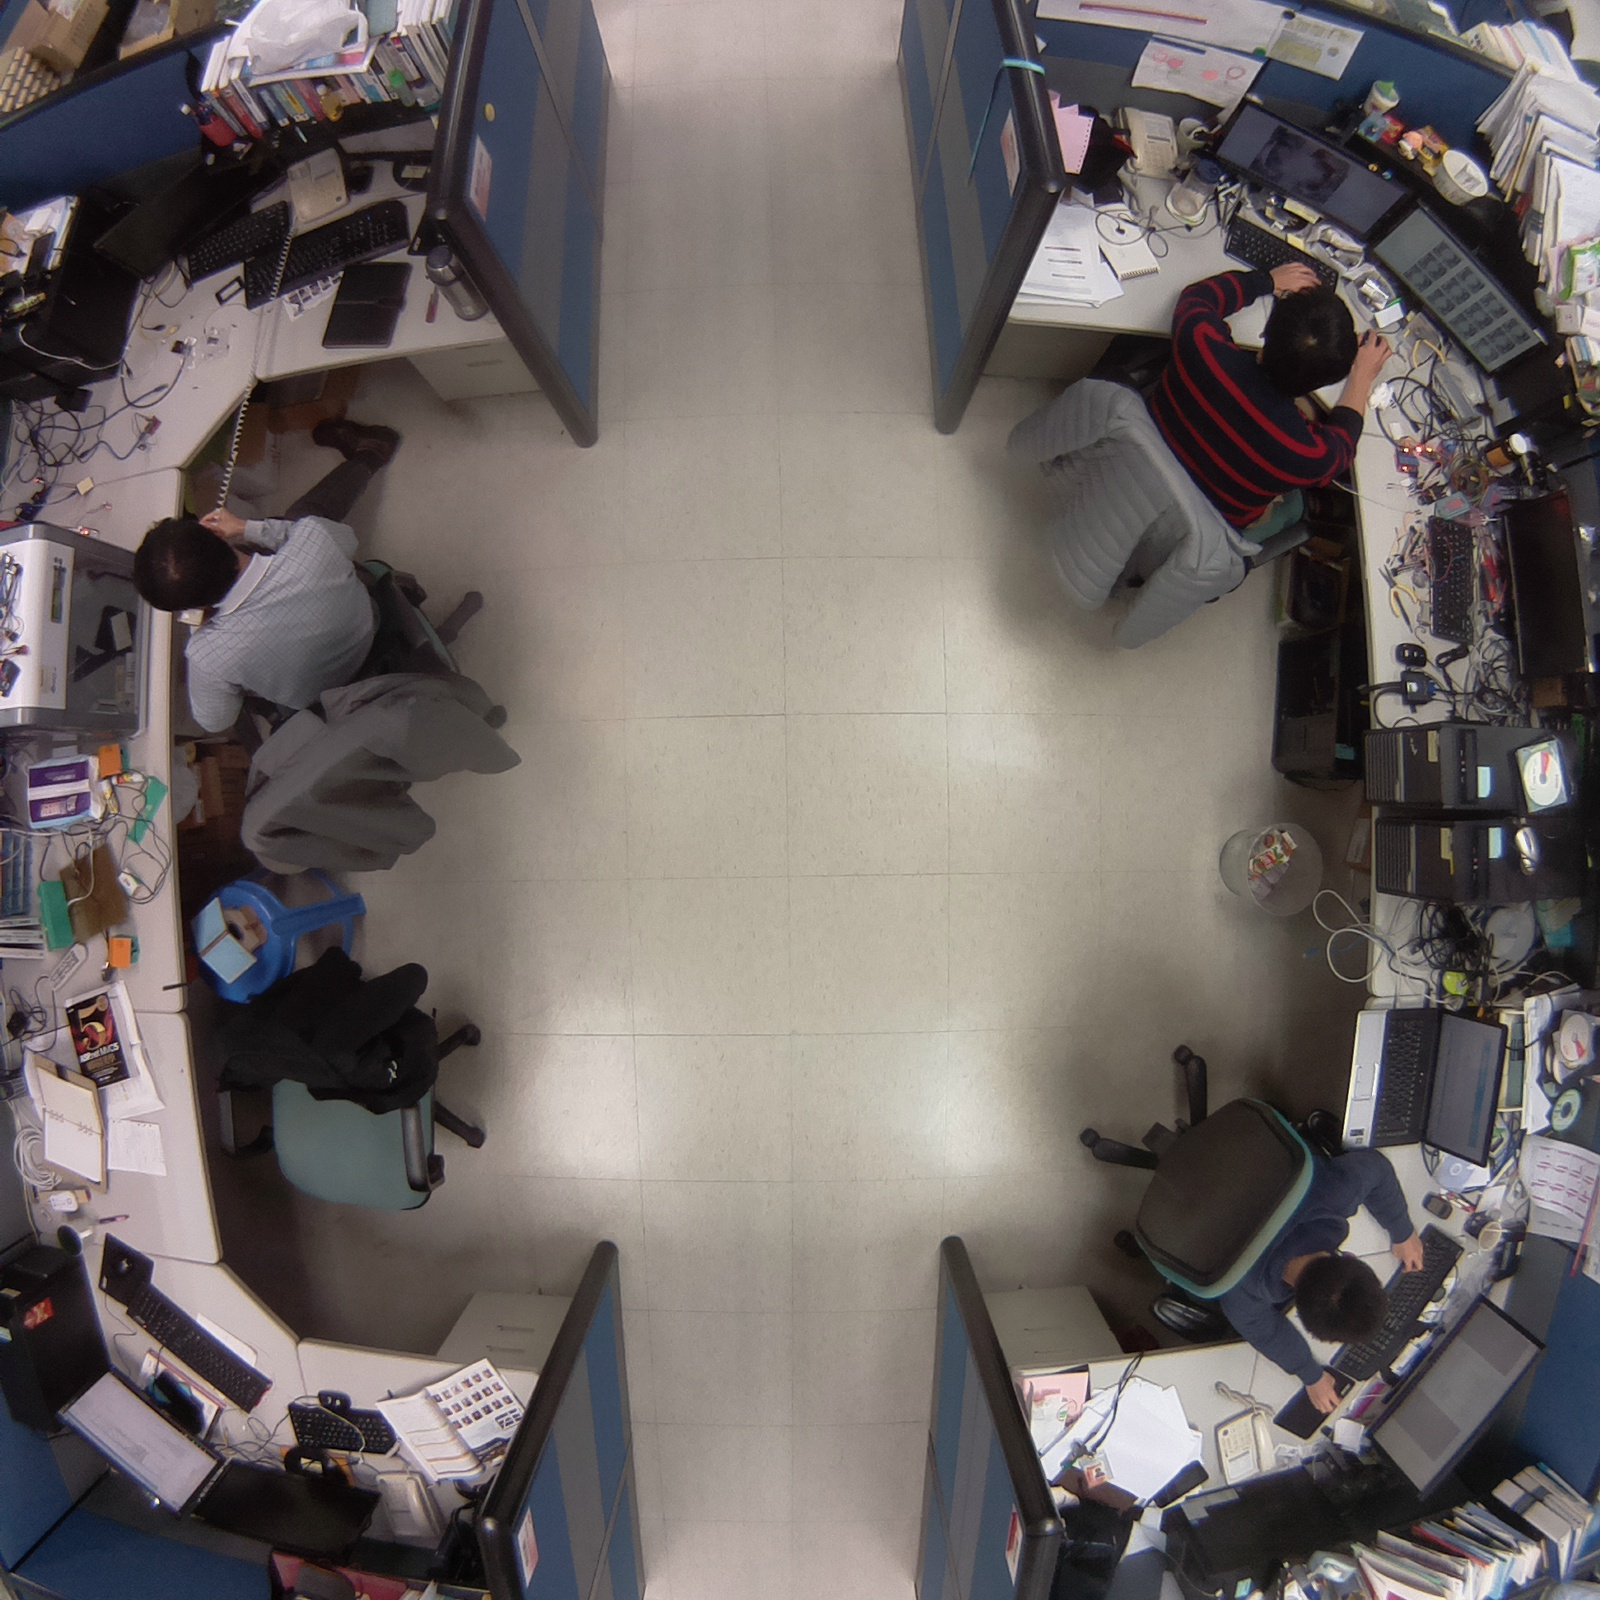chair: (222, 932, 519, 1232)
head: (119, 502, 244, 617), (1289, 1242, 1395, 1353), (1261, 285, 1361, 397)
sitting: (110, 500, 537, 893), (981, 264, 1391, 660), (1065, 1029, 1418, 1420)
